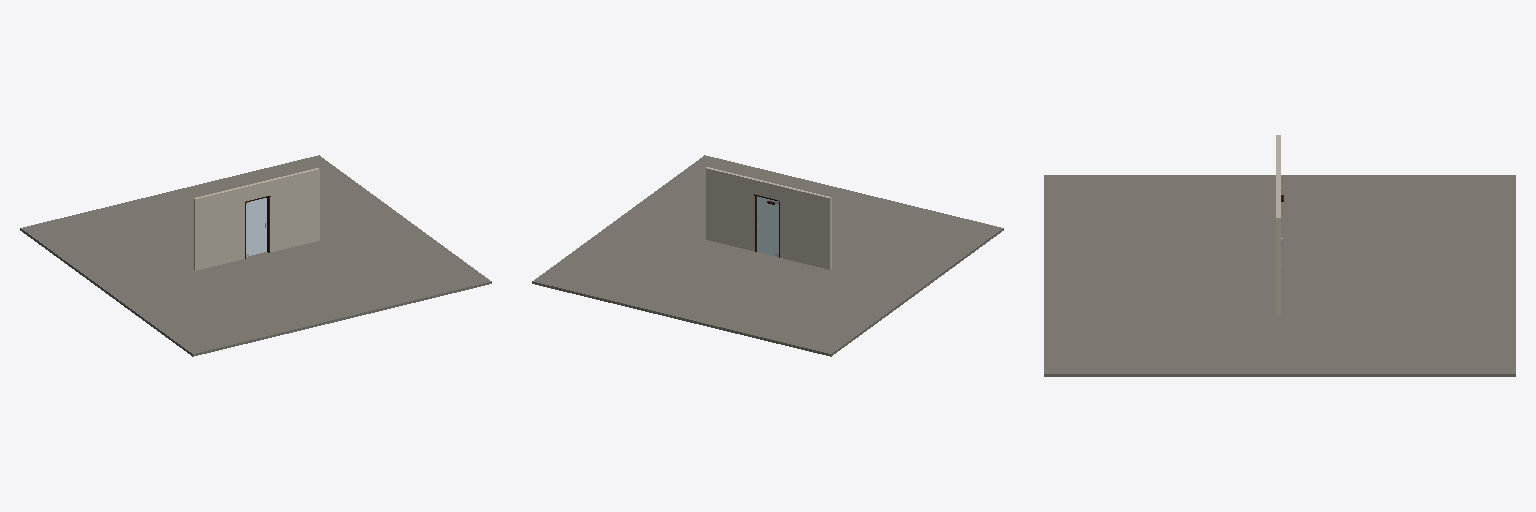
robot.urdf — db0712_swing_single_simple:
<?xml version="1.0" ?>
<robot xmlns:doorbench="https://github.com/adamraudonis/DoorBench/schema/urdf-ext" name="db0712_swing_single_simple">
  <link name="world_env">
    <visual name="floor_vis">
      <origin xyz="0 0 -0.05" rpy="0 0 0"/>
      <geometry>
        <box size="12 12 0.1"/>
      </geometry>
      <material name="mat_floor"/>
    </visual>
    <collision name="floor_col">
      <origin xyz="0 0 -0.05" rpy="0 0 0"/>
      <geometry>
        <box size="12 12 0.1"/>
      </geometry>
    </collision>
    <visual name="wall_left_vis">
      <origin xyz="-1.50325 -0.0445 1.3735" rpy="0 0 0"/>
      <geometry>
        <box size="1.9935 0.115 2.747"/>
      </geometry>
      <material name="mat_wall"/>
    </visual>
    <collision name="wall_left_col">
      <origin xyz="-1.50325 -0.0445 1.3735" rpy="0 0 0"/>
      <geometry>
        <box size="1.9935 0.115 2.747"/>
      </geometry>
    </collision>
    <visual name="wall_right_vis">
      <origin xyz="1.51825 -0.0445 1.3735" rpy="0 0 0"/>
      <geometry>
        <box size="1.9635 0.115 2.747"/>
      </geometry>
      <material name="mat_wall"/>
    </visual>
    <collision name="wall_right_col">
      <origin xyz="1.51825 -0.0445 1.3735" rpy="0 0 0"/>
      <geometry>
        <box size="1.9635 0.115 2.747"/>
      </geometry>
    </collision>
    <visual name="wall_header_vis">
      <origin xyz="0.015 -0.0445 2.4845" rpy="0 0 0"/>
      <geometry>
        <box size="1.043 0.115 0.525"/>
      </geometry>
      <material name="mat_wall"/>
    </visual>
    <collision name="wall_header_col">
      <origin xyz="0.015 -0.0445 2.4845" rpy="0 0 0"/>
      <geometry>
        <box size="1.043 0.115 0.525"/>
      </geometry>
    </collision>
    <visual name="pivot_bottom_socket_vis">
      <origin xyz="-0.4585 0.013 -0.0015" rpy="0 0 0"/>
      <geometry>
        <box size="0.07 0.07 0.017"/>
      </geometry>
      <material name="mat_hinge"/>
    </visual>
    <visual name="pivot_top_bracket_vis">
      <origin xyz="-0.4585 0.013 2.1865" rpy="0 0 0"/>
      <geometry>
        <box size="0.07 0.07 0.071"/>
      </geometry>
      <material name="mat_hinge"/>
    </visual>
    <visual name="jamb_hinge_vis">
      <origin xyz="-0.484 -0.0445 1.0735" rpy="0 0 0"/>
      <geometry>
        <box size="0.045 0.115 2.147"/>
      </geometry>
      <material name="mat_frame"/>
    </visual>
    <collision name="jamb_hinge_col">
      <origin xyz="-0.484 -0.0445 1.0735" rpy="0 0 0"/>
      <geometry>
        <box size="0.045 0.115 2.147"/>
      </geometry>
    </collision>
    <visual name="jamb_strike_vis">
      <origin xyz="0.484 -0.0445 1.0735" rpy="0 0 0"/>
      <geometry>
        <box size="0.045 0.115 2.147"/>
      </geometry>
      <material name="mat_frame"/>
    </visual>
    <collision name="jamb_strike_col">
      <origin xyz="0.484 -0.0445 1.0735" rpy="0 0 0"/>
      <geometry>
        <box size="0.045 0.115 2.147"/>
      </geometry>
    </collision>
    <visual name="stud_strike_vis">
      <origin xyz="0.5215 -0.0445 1.0735" rpy="0 0 0"/>
      <geometry>
        <box size="0.03 0.115 2.147"/>
      </geometry>
      <material name="mat_wall"/>
    </visual>
    <collision name="stud_strike_col">
      <origin xyz="0.5215 -0.0445 1.0735" rpy="0 0 0"/>
      <geometry>
        <box size="0.03 0.115 2.147"/>
      </geometry>
    </collision>
    <visual name="jamb_head_vis">
      <origin xyz="0.015 -0.0445 2.1695" rpy="0 0 0"/>
      <geometry>
        <box size="1.043 0.115 0.045"/>
      </geometry>
      <material name="mat_frame"/>
    </visual>
    <collision name="jamb_head_col">
      <origin xyz="0.015 -0.0445 2.1695" rpy="0 0 0"/>
      <geometry>
        <box size="1.043 0.115 0.045"/>
      </geometry>
    </collision>
    <visual name="head_stud_vis">
      <origin xyz="0.015 -0.0445 2.207" rpy="0 0 0"/>
      <geometry>
        <box size="1.043 0.115 0.03"/>
      </geometry>
      <material name="mat_wall"/>
    </visual>
    <collision name="head_stud_col">
      <origin xyz="0.015 -0.0445 2.207" rpy="0 0 0"/>
      <geometry>
        <box size="1.043 0.115 0.03"/>
      </geometry>
    </collision>
  </link>
  <link name="leaf">
    <inertial>
      <origin xyz="0.347821 0.031415 1.85123" rpy="0 0 0"/>
      <mass value="64.466789"/>
      <inertia ixx="14.152844342" ixy="0.145513668" ixz="2.554388728" iyy="16.070271833" iyz="-0.580583085" izz="2.091626791"/>
    </inertial>
    <visual name="leaf_glass_vis">
      <origin xyz="0.46 -0.013 1.076" rpy="0 0 0"/>
      <geometry>
        <box size="0.914 0.012 2.134"/>
      </geometry>
      <material name="mat_glass_leaf"/>
    </visual>
    <collision name="leaf_glass_col">
      <origin xyz="0.46 -0.013 1.076" rpy="0 0 0"/>
      <geometry>
        <box size="0.914 0.012 2.134"/>
      </geometry>
    </collision>
    <visual name="leaf_patch_bot_vis">
      <origin xyz="0.083 -0.013 0.069" rpy="0 0 0"/>
      <geometry>
        <box size="0.16 0.028 0.1"/>
      </geometry>
      <material name="mat_patch"/>
    </visual>
    <visual name="leaf_patch_top_vis">
      <origin xyz="0.083 -0.013 2.083" rpy="0 0 0"/>
      <geometry>
        <box size="0.16 0.028 0.1"/>
      </geometry>
      <material name="mat_patch"/>
    </visual>
    <visual name="leaf_pull_n_vis">
      <origin xyz="0.812 -0.019 1.067" rpy="1.570796 0 0"/>
      <geometry>
        <mesh filename="../../hardware/pull_1e5d69a91a.obj"/>
      </geometry>
      <material name="mat_op_stainless"/>
    </visual>
    <collision name="leaf_pull_col_n_col">
      <origin xyz="0.812 -0.079 1.067" rpy="0 0 0"/>
      <geometry>
        <cylinder radius="0.0095" length="0.16"/>
      </geometry>
    </collision>
    <visual name="leaf_pull_p_vis">
      <origin xyz="0.812 -0.007 1.067" rpy="-1.570796 0 0"/>
      <geometry>
        <mesh filename="../../hardware/pull_1e5d69a91a.obj"/>
      </geometry>
      <material name="mat_op_stainless"/>
    </visual>
    <collision name="leaf_pull_col_p_col">
      <origin xyz="0.812 0.053 1.067" rpy="0 0 0"/>
      <geometry>
        <cylinder radius="0.0095" length="0.16"/>
      </geometry>
    </collision>
    <visual name="closer_body_vis">
      <origin xyz="0.297 -0.007 2.054" rpy="-1.570796 0 0"/>
      <geometry>
        <mesh filename="../../hardware/closer_body_fdc4667657.obj"/>
      </geometry>
      <material name="mat_closer"/>
    </visual>
    <collision name="closer_body_col_col">
      <origin xyz="0.297 0.043 2.054" rpy="0 0 0"/>
      <geometry>
        <box size="0.29 0.1 0.07"/>
      </geometry>
    </collision>
  </link>
  <joint name="leaf_hinge" type="revolute">
    <origin xyz="-0.4585 0.013 0" rpy="0 0 0"/>
    <parent link="world_env"/>
    <child link="leaf"/>
    <axis xyz="0 0 1"/>
    <limit lower="0" upper="1.570796" effort="2000" velocity="10"/>
    <dynamics damping="12.268966" friction="1.519116"/>
    <doorbench:spring stiffness="15.342537" springref="-1.864099" note="tau = -stiffness*(q - springref); not native URDF"/>
    <doorbench:closer damping_closing="90" damping_opening="12" backcheck_angle="1.22" backcheck_damping="60"/>
  </joint>
  <material name="mat_closer">
    <color rgba="0.22 0.17 0.13 1"/>
  </material>
  <material name="mat_floor">
    <color rgba="0.55 0.53 0.5 1"/>
  </material>
  <material name="mat_frame">
    <color rgba="0.22 0.17 0.13 1"/>
  </material>
  <material name="mat_glass_leaf">
    <color rgba="0.85 0.92 0.95 0.25"/>
  </material>
  <material name="mat_hinge">
    <color rgba="0.65 0.66 0.68 1"/>
  </material>
  <material name="mat_op_stainless">
    <color rgba="0.75 0.76 0.77 1"/>
  </material>
  <material name="mat_patch">
    <color rgba="0.75 0.76 0.77 1"/>
  </material>
  <material name="mat_wall">
    <color rgba="0.78 0.76 0.7 1"/>
  </material>
</robot>

--- Render facts (derived) ---
3 views of the same robot in one strip: view 1: azimuth 30°, elevation 25°; view 2: azimuth 150°, elevation 25°; view 3: azimuth 270°, elevation 25° (orthographic).
Robot: db0712_swing_single_simple — 2 links, 1 joints (1 revolute); root link world_env; default pose: all joints at 0.
Links seen in each view (by area): view 1: world_env, leaf; view 2: world_env, leaf; view 3: world_env.
Link boxes in pixels (x1,y1,x2,y2): world_env: [20, 155, 491, 356]; leaf: [246, 198, 266, 256]; world_env: [532, 155, 1003, 356]; leaf: [757, 196, 778, 256]; world_env: [1044, 135, 1515, 376].
Size in the robot's own frame: 12 by 12 by 2.85 metres.
3 mesh visuals loaded from 2 distinct referenced files (2 OBJ).
